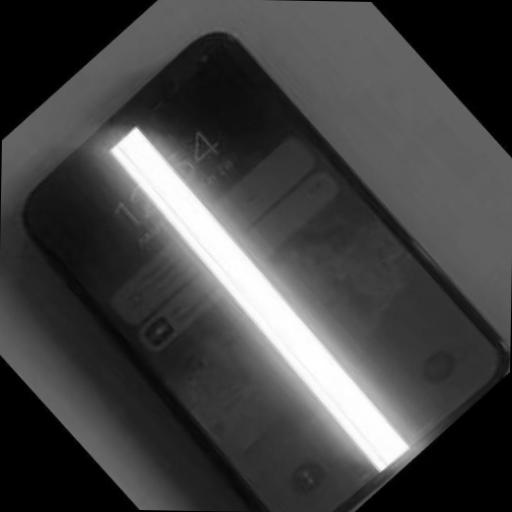phone: (26, 32, 510, 512)
